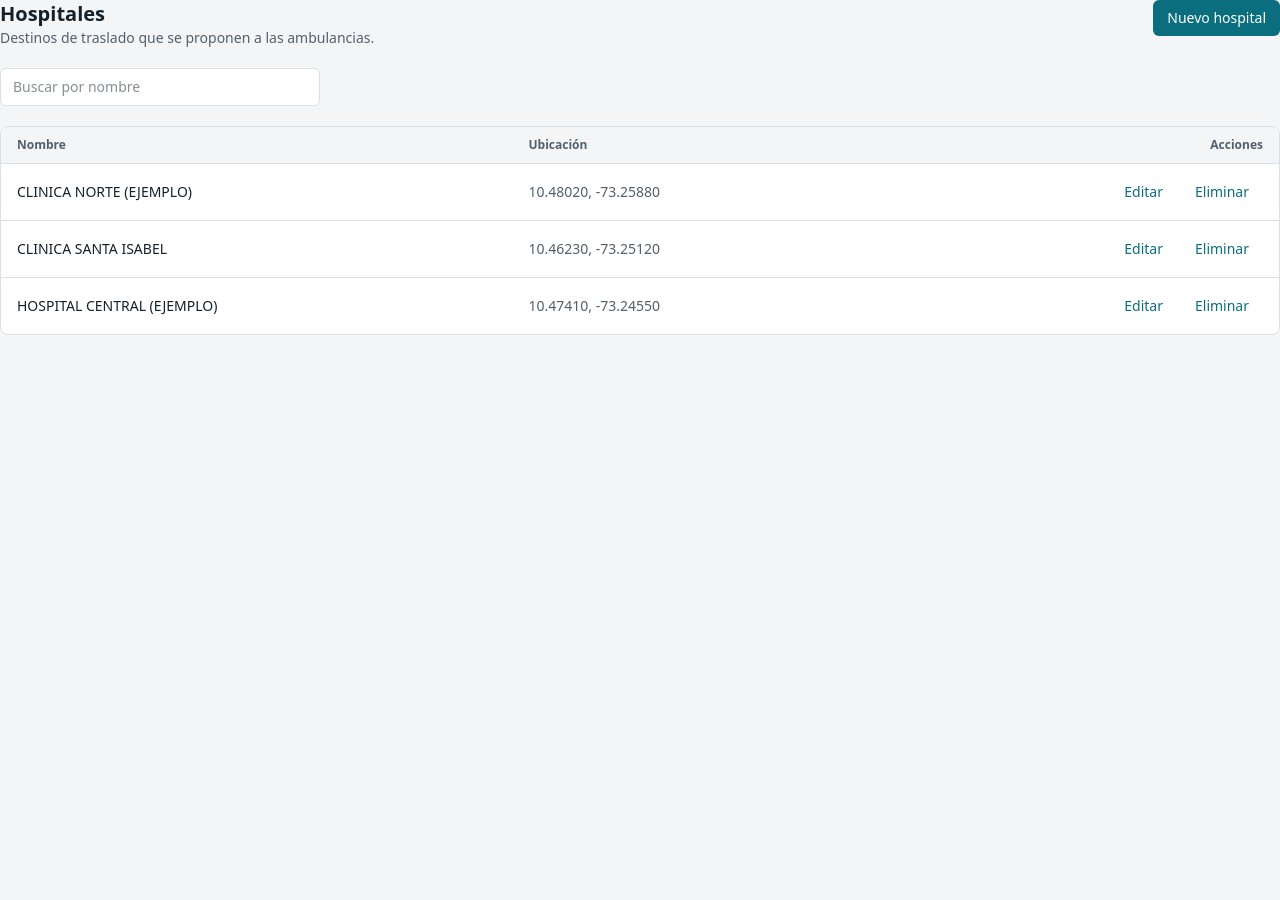
HospitalsPage › pide confirmación antes de eliminar y respeta "Cancelar"
The width and height of the screenshot is (1280, 900).
Click the button with aria-label "Eliminar CLINICA NORTE (EJEMPLO)".
click(1222, 192)  # box [1181,174,1263,210]
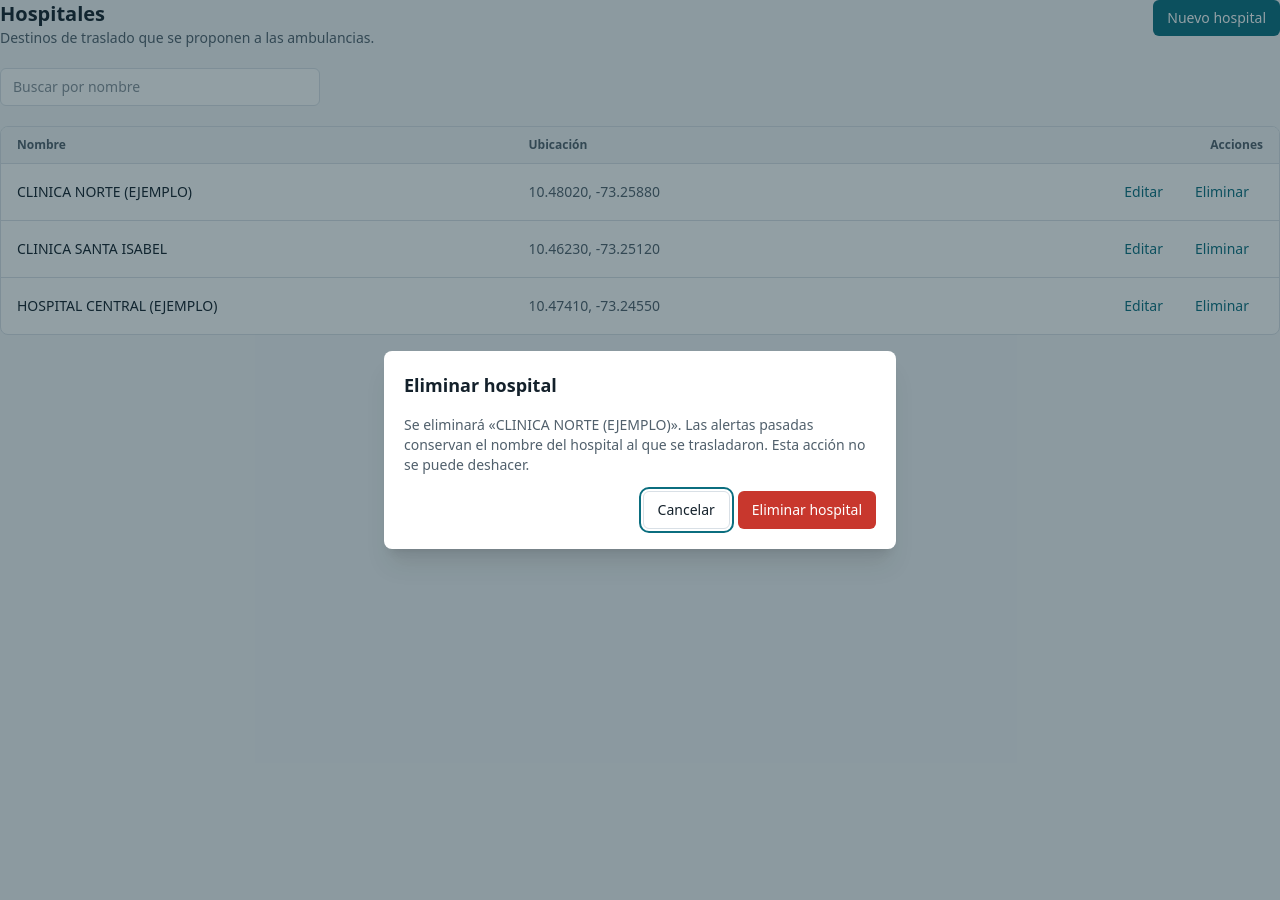
Click the button "Cancelar".
click(686, 510)  # box [643,491,730,529]
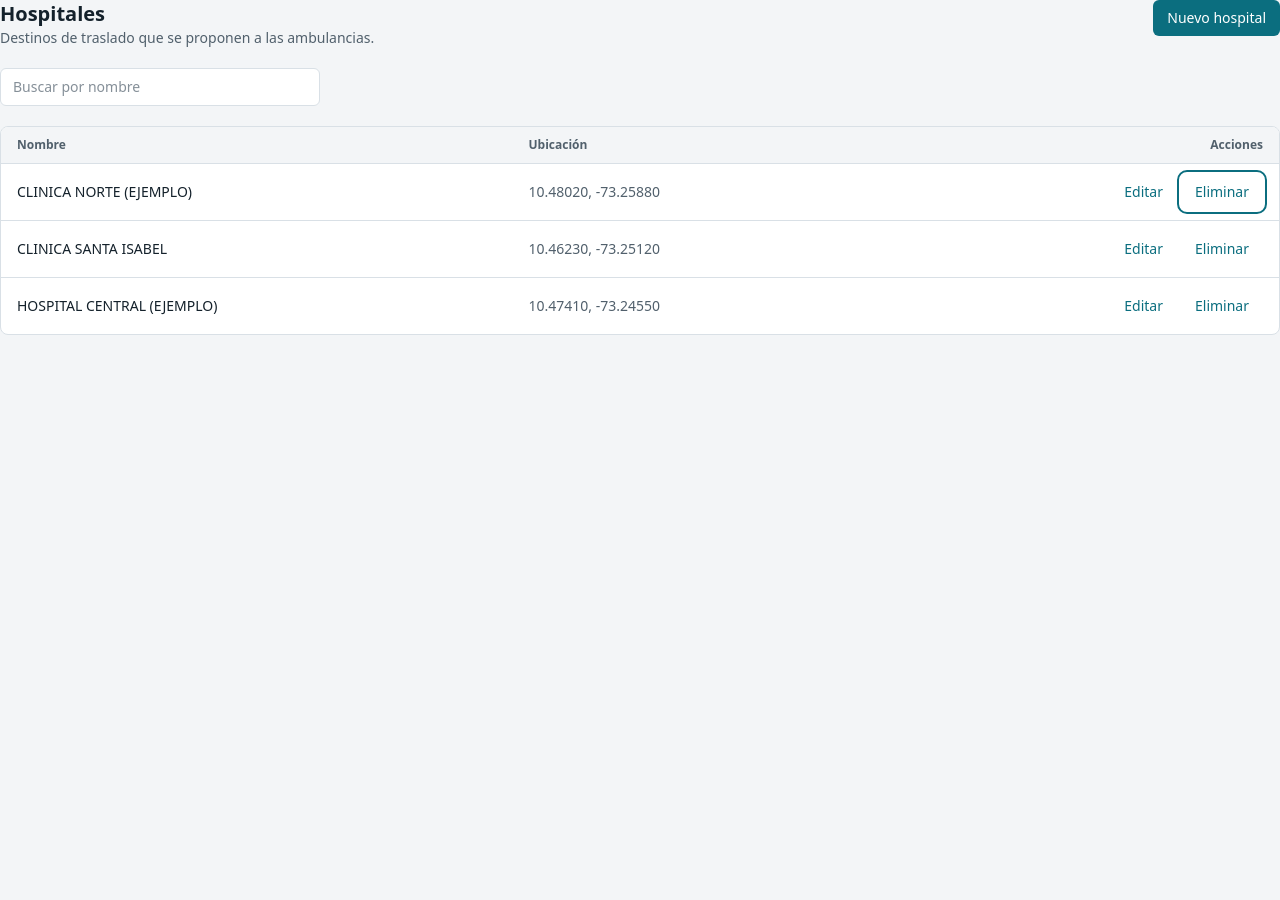
Check: the text "CLINICA NORTE (EJEMPLO)" is shown, box [17,182,192,201]
Click the button with aria-label "Eliminar CLINICA NORTE (EJEMPLO)".
click(1222, 192)  # box [1181,174,1263,210]
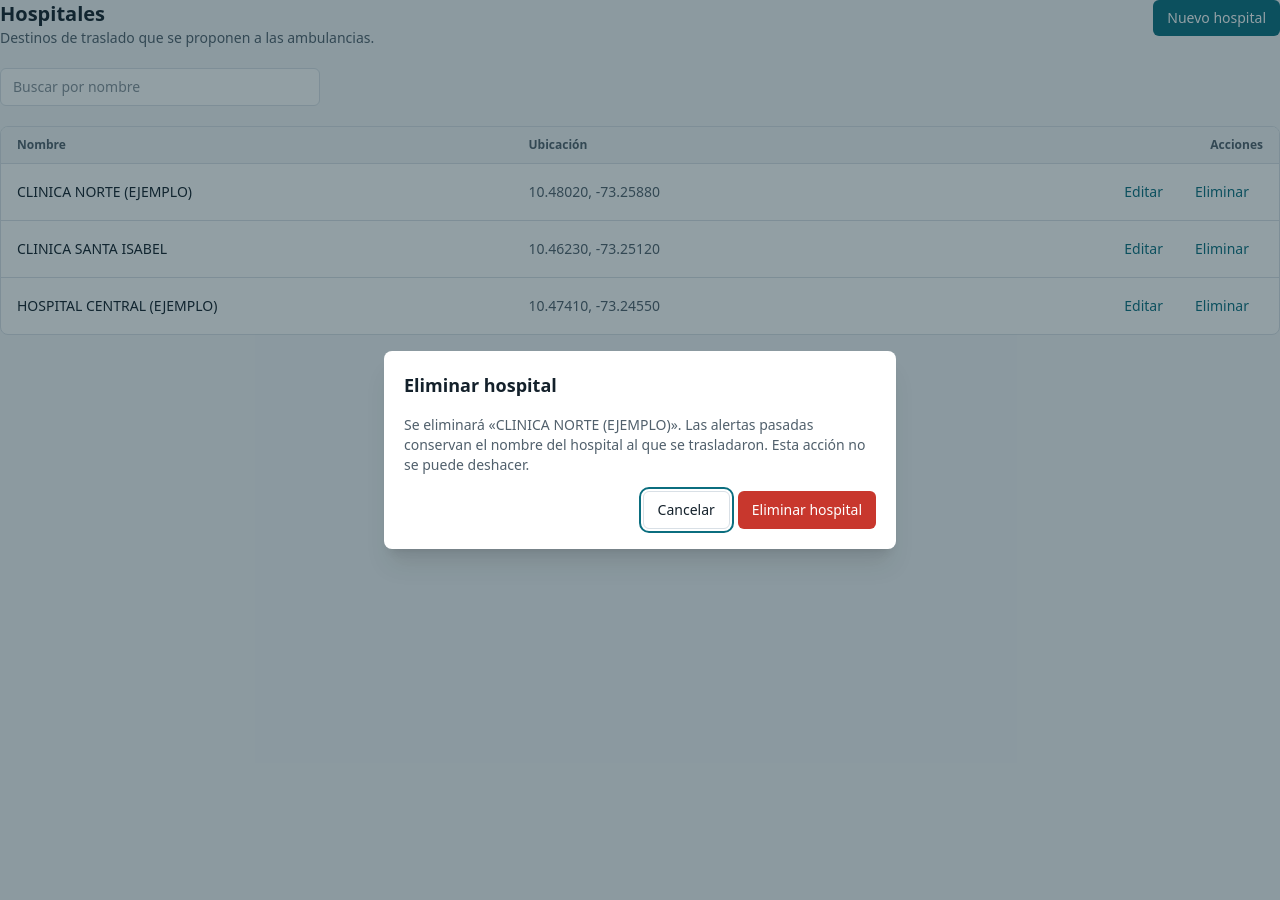
Click the button "Eliminar hospital".
click(807, 510)  # box [738,491,876,529]
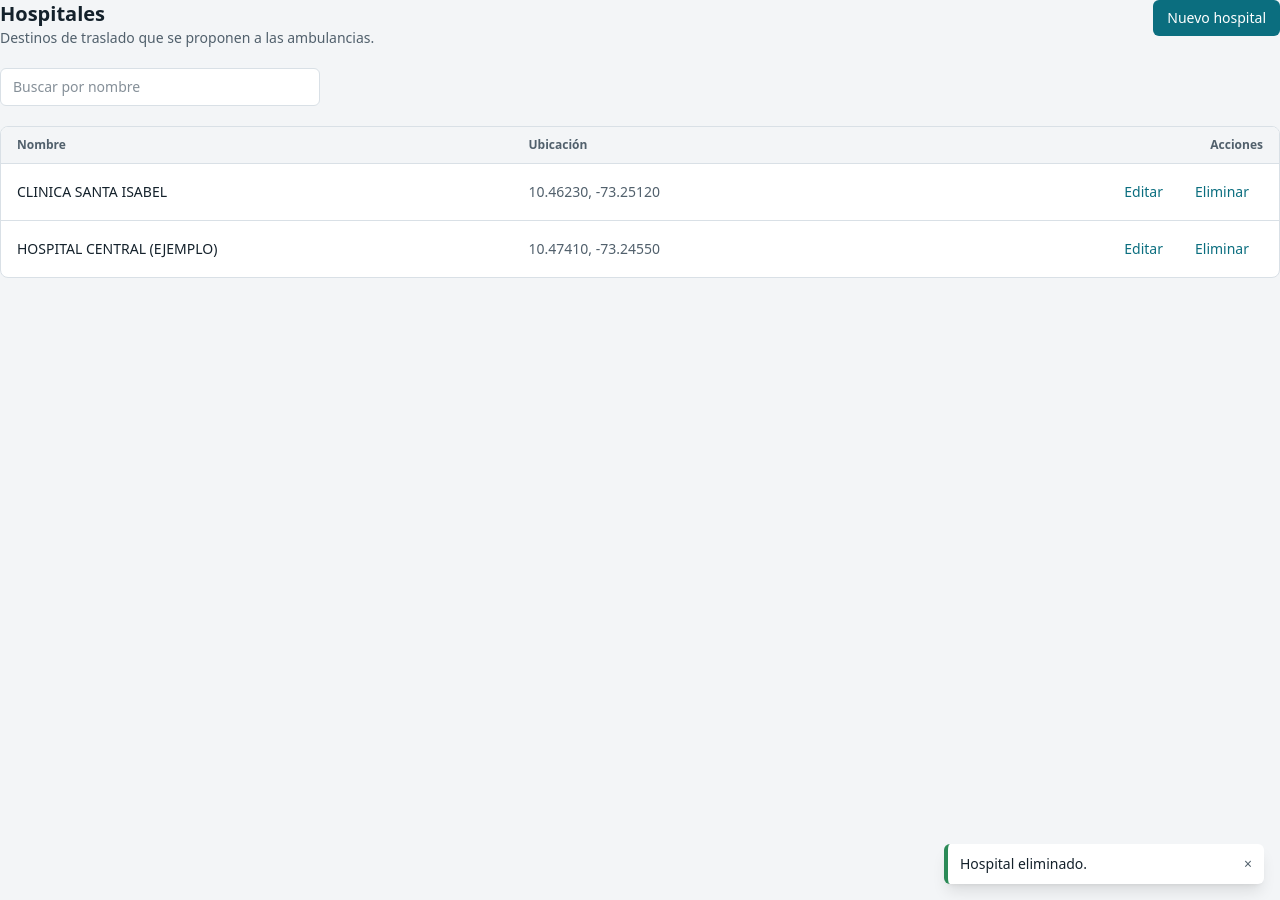
Check: the text "Hospital eliminado." is shown, box [960,854,1087,874]
Check: the text "CLINICA NORTE (EJEMPLO)" is gone
